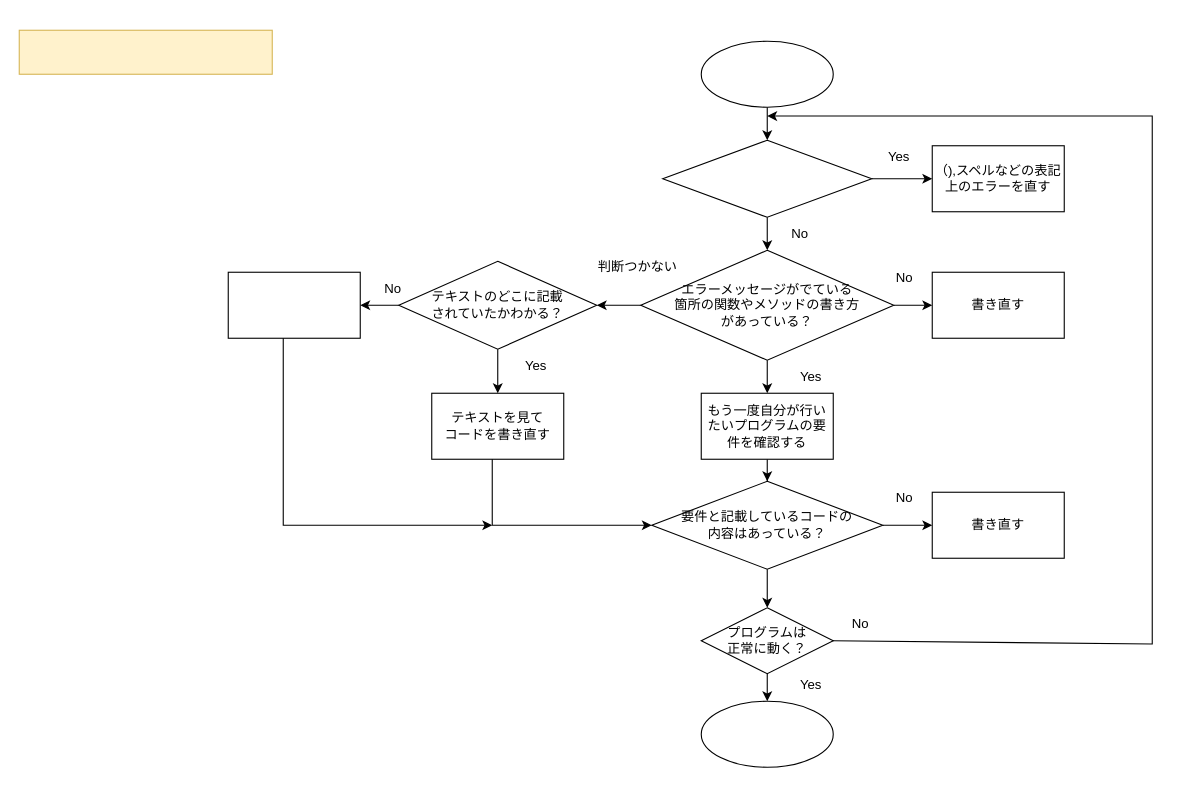
This 1180x787 diagram has some shape labels left out. Here are the shapes that lost their labels. From the top down, the box of each, then its label:
(18, 29, 272, 74): エラーの対処手順
(700, 40, 833, 107): エラー発生
(662, 139, 872, 217): (),スペルなどの表記上の エラー表記がでているか
(227, 271, 360, 338): google chrome等で 検索して直す
(700, 700, 833, 767): エラー解決
